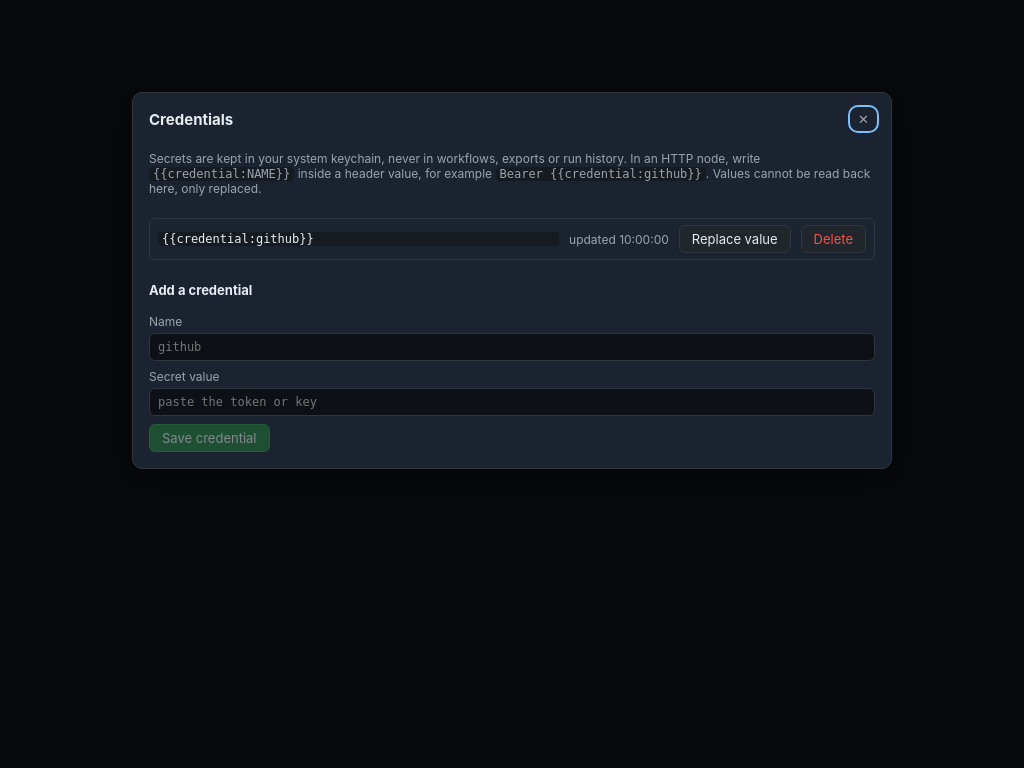
it: CredentialsDialog › replaces a value without ever showing the old one
Click the button with aria-label "Replace the value of github" at (735, 239), box [679, 225, 791, 253]
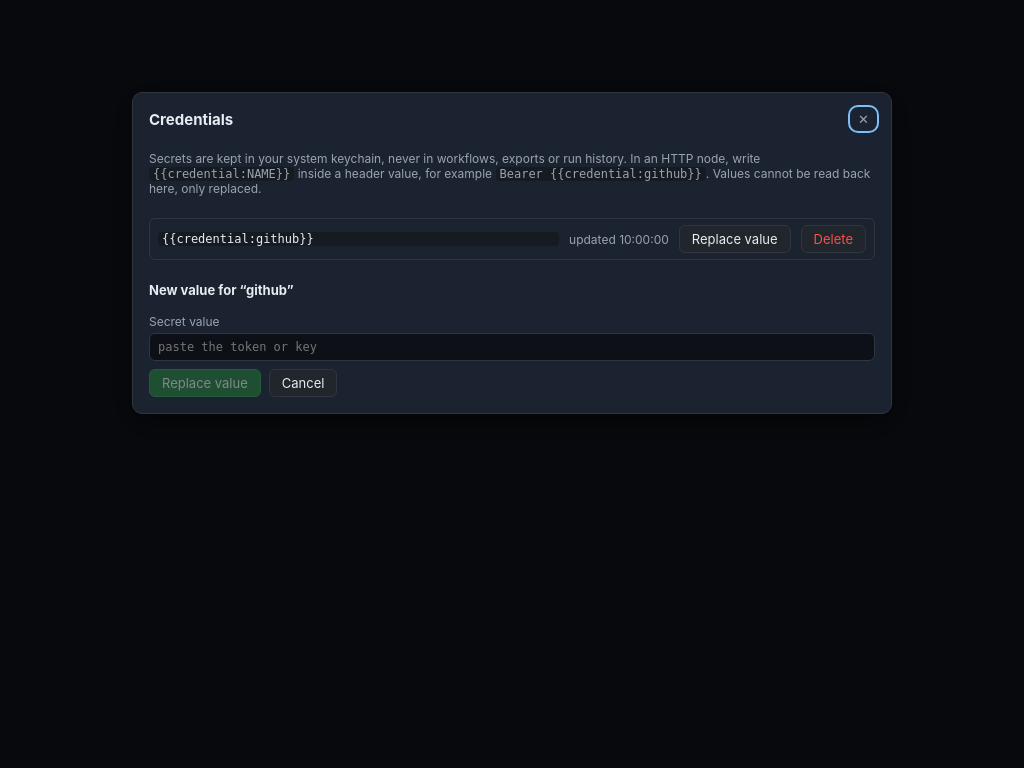
Check: the heading "New value for “github”" is shown, box [149, 282, 294, 298]
Type "ghp_exampleSecretValue123" into the password field labelled "Secret value" at (512, 347), box [149, 333, 875, 361]
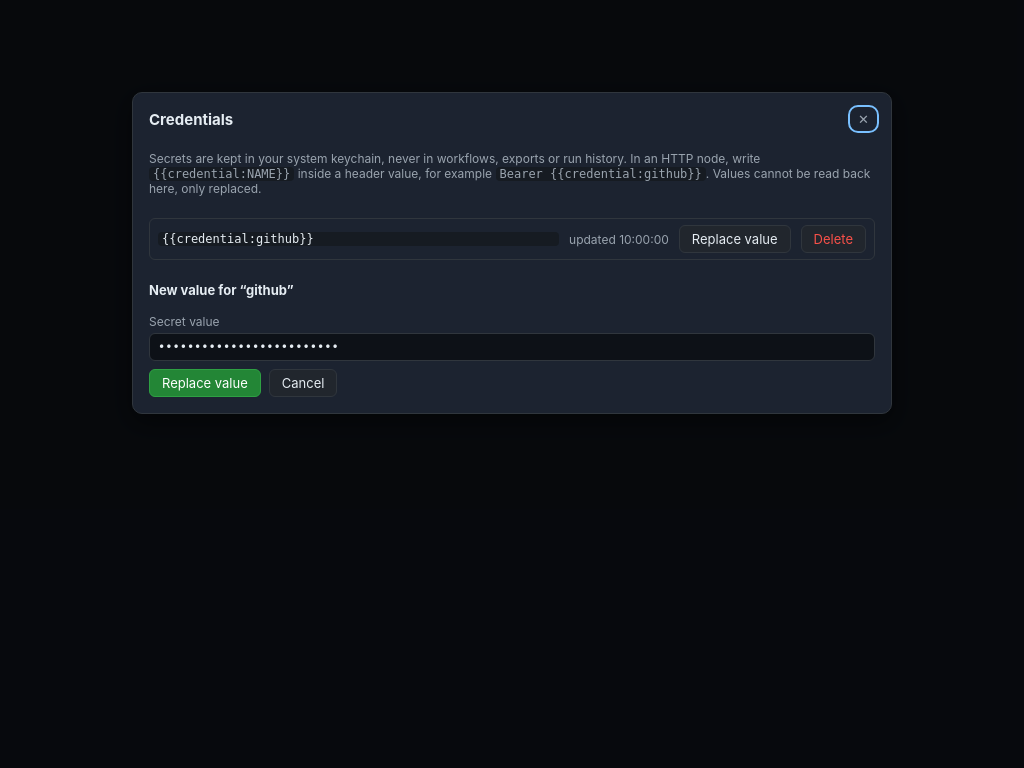
Click the button "Replace value" below "Secret value" at (205, 383), box [149, 369, 261, 397]
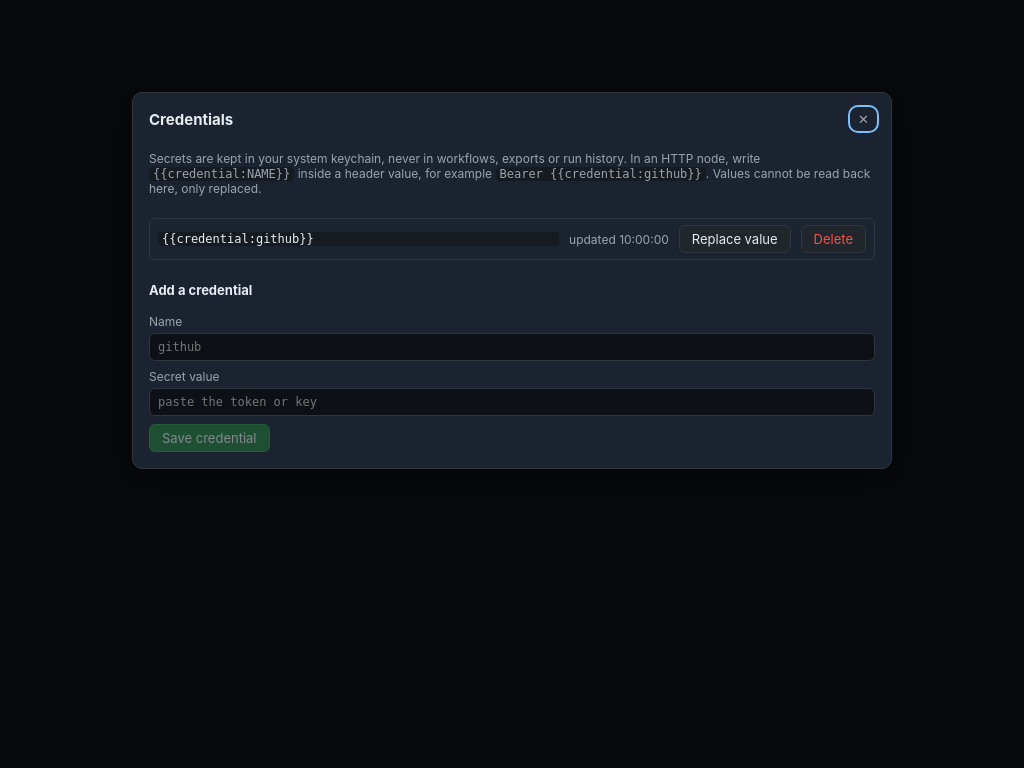
Check: the heading "Add a credential" is shown, box [149, 282, 252, 298]
